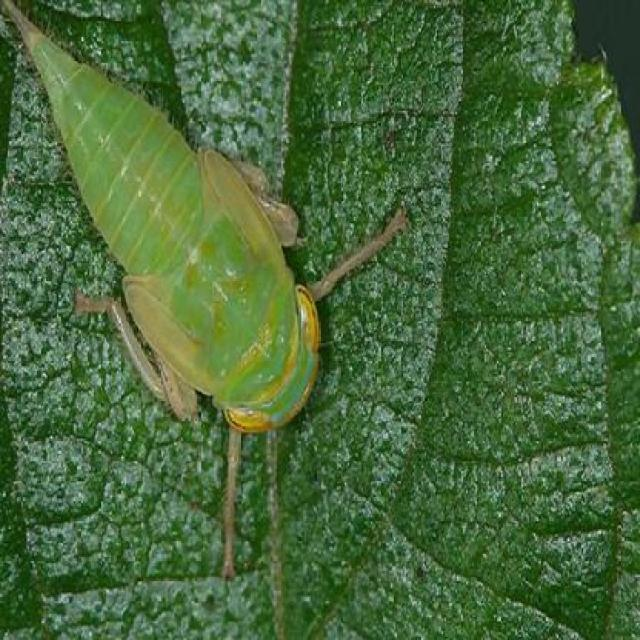green-leafhopper: (9, 4, 334, 442)
